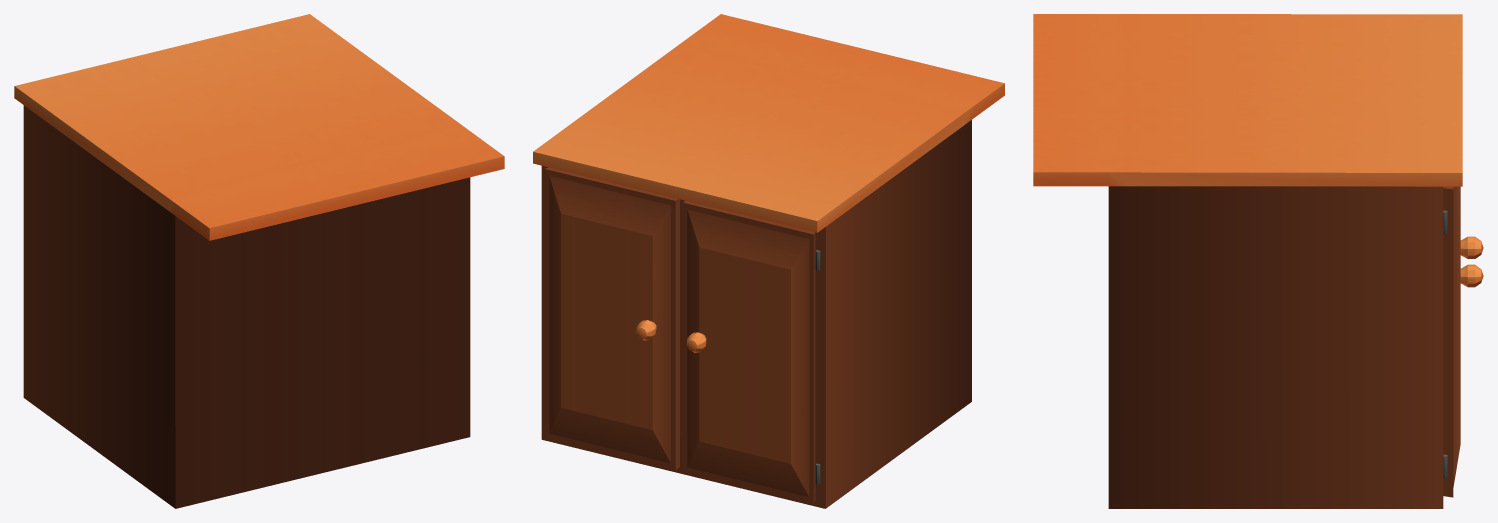
The model's file is counter island.FBX.
3 renders of one model, left to right at view 1: azimuth 30°, elevation 25°; view 2: azimuth 150°, elevation 25°; view 3: azimuth 270°, elevation 25°, orthographic. The views are drawn at different scales.
Parts seen in each view (by area): view 1: counter island; view 2: counter island; view 3: counter island.
Boxes of the visible parts, <box> form: counter island: <box>14,14,504,508</box>; counter island: <box>533,14,1004,508</box>; counter island: <box>1033,14,1483,508</box>.
Bounding box in the file's own units: 69.65 × 68.9 × 83.52.
Materials: 1 (1 with a texture image).
